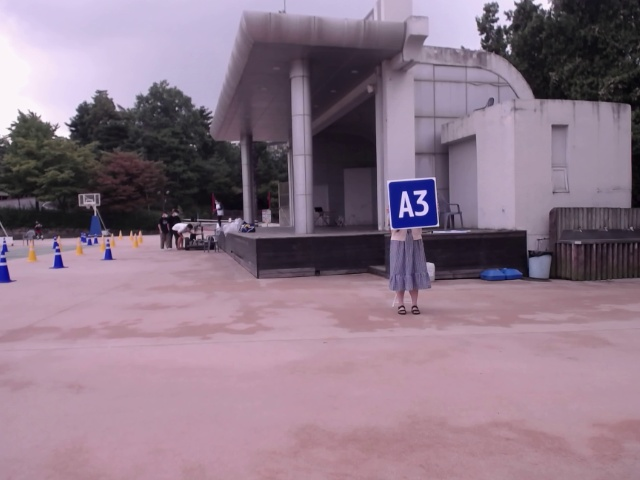delivery_a3: (388, 178, 439, 229)
